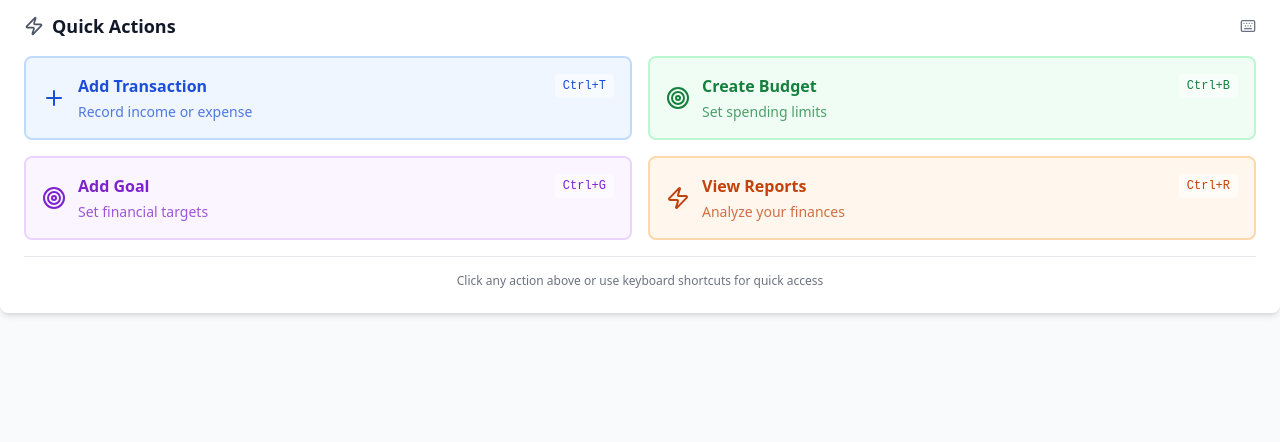
Test case: QuickActions › toggles keyboard shortcuts display
The width and height of the screenshot is (1280, 442).
Expected: the text "Keyboard Shortcuts:" is not shown
// Click the keyboard icon to show shortcuts
Click the button titled "Toggle keyboard shortcuts": [1248, 26] box x1=1240 y1=18 x2=1256 y2=34
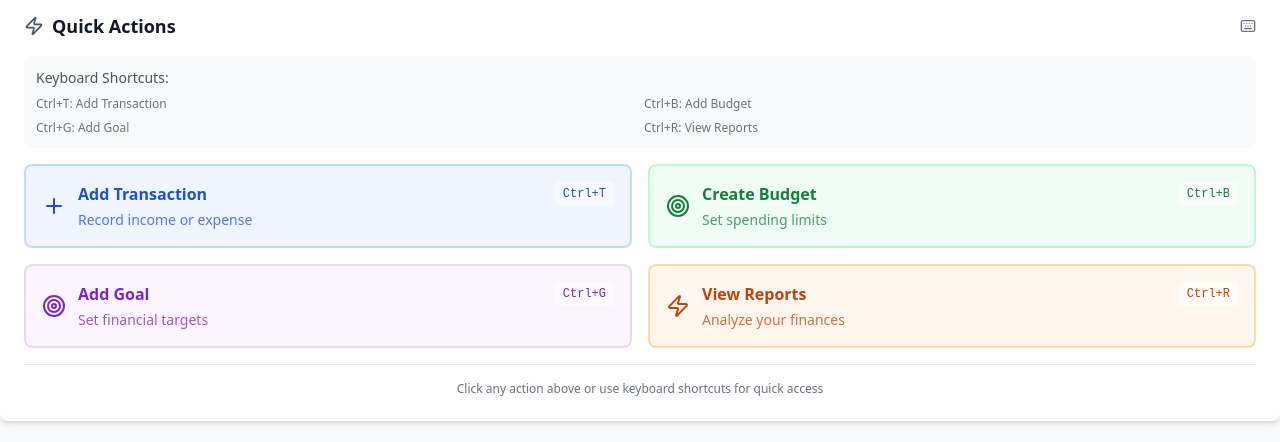
Expected: the text "Keyboard Shortcuts:" is shown, x1=36 y1=68 x2=169 y2=87
Expected: the text "Ctrl+T: Add Transaction" is shown, x1=36 y1=95 x2=167 y2=112
Expected: the text "Ctrl+B: Add Budget" is shown, x1=644 y1=95 x2=752 y2=112
